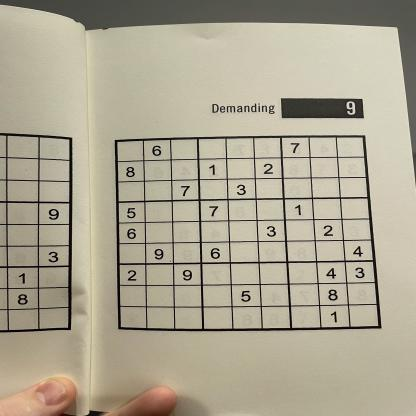sudoku: (110, 129, 388, 339)
